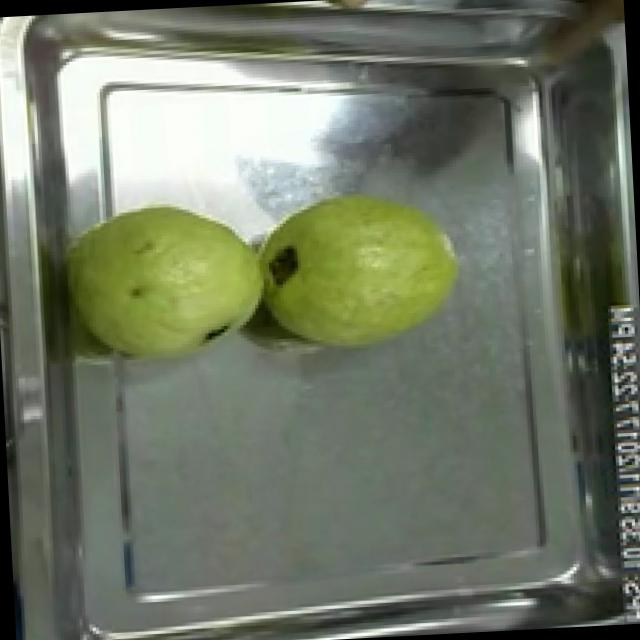Fruit: (252, 175, 472, 362), (67, 188, 278, 377)
